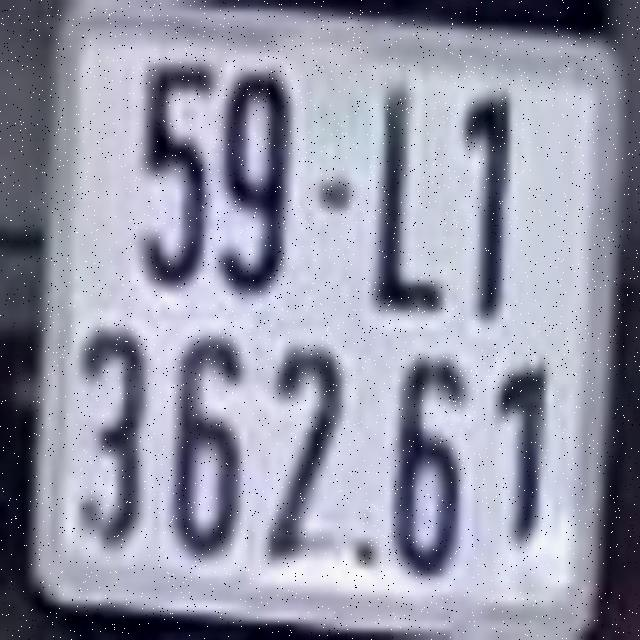1: (463, 91, 514, 319), (498, 364, 548, 559)
2: (268, 348, 341, 561)
3: (77, 328, 146, 547)
5: (141, 61, 211, 286)
6: (396, 356, 464, 577), (175, 334, 242, 557)
9: (221, 69, 289, 293)
L: (375, 86, 449, 312)
